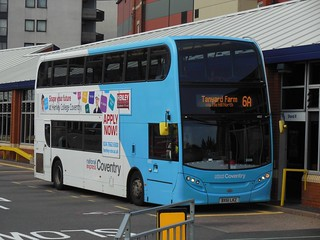bus: (32, 35, 272, 205)
